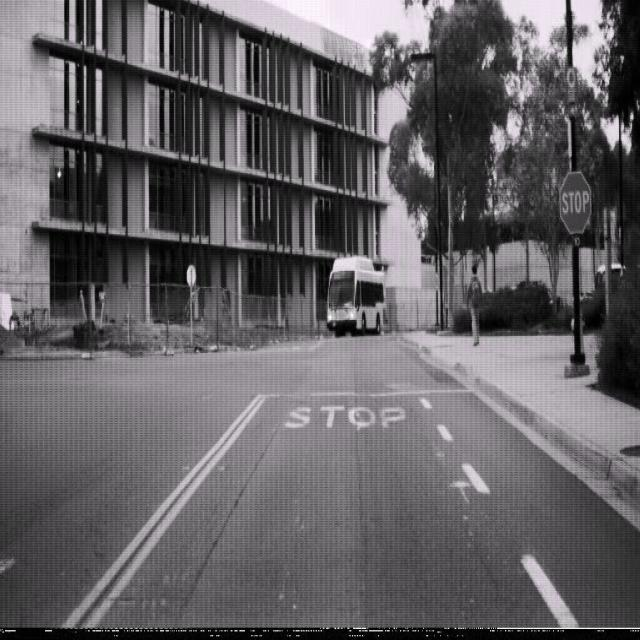stop_sign: (559, 170, 592, 234)
